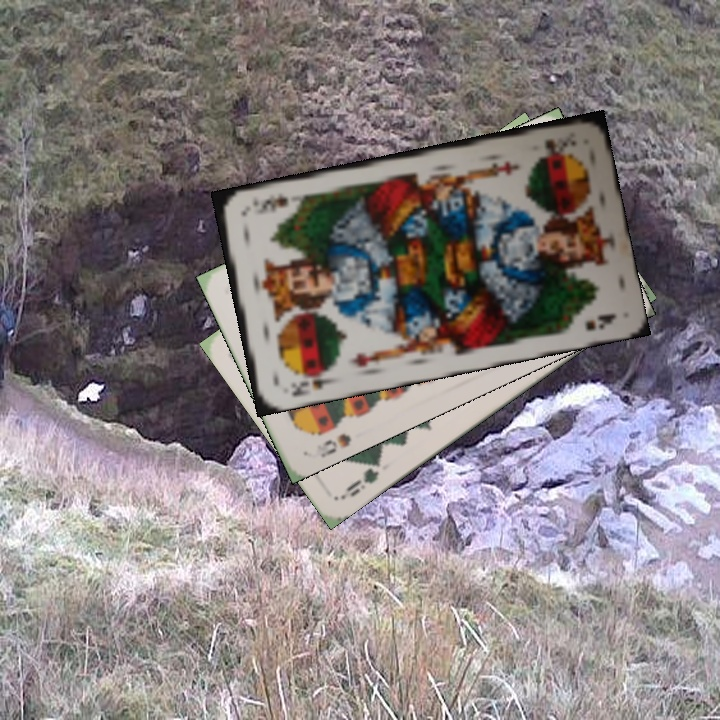G9: (338, 454, 383, 502)
S8: (306, 428, 354, 460)
SK: (286, 365, 337, 400), (540, 135, 579, 155)
